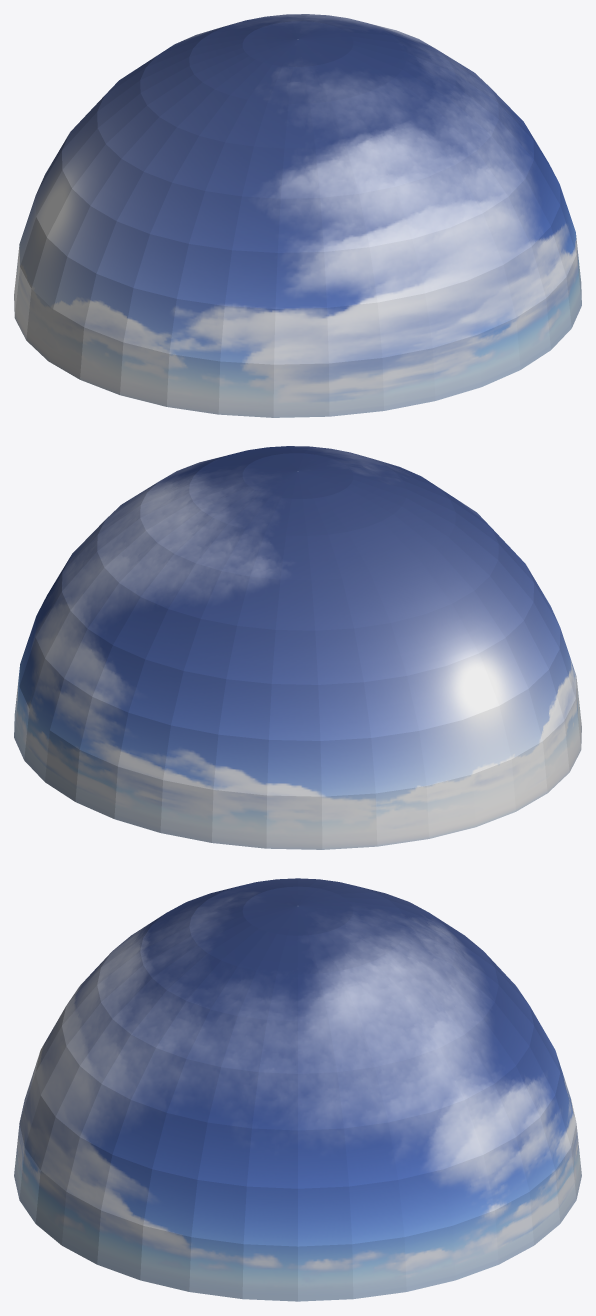
File: Sky.gltf
The picture shows the model from 3 angles, top to bottom: view 1: azimuth 30°, elevation 25°; view 2: azimuth 150°, elevation 25°; view 3: azimuth 270°, elevation 25°; orthographic projection. The views are drawn at different scales.
Visible parts, largest first — view 1: 球; view 2: 球; view 3: 球.
Boxes of the visible parts, bbox=[...] form: 球: bbox=[14, 14, 581, 417]; 球: bbox=[14, 446, 581, 849]; 球: bbox=[14, 878, 581, 1301].
Bounding box in the file's own units: 35.75 × 17.87 × 34.1.
Materials: 1 (1 with a texture image).
